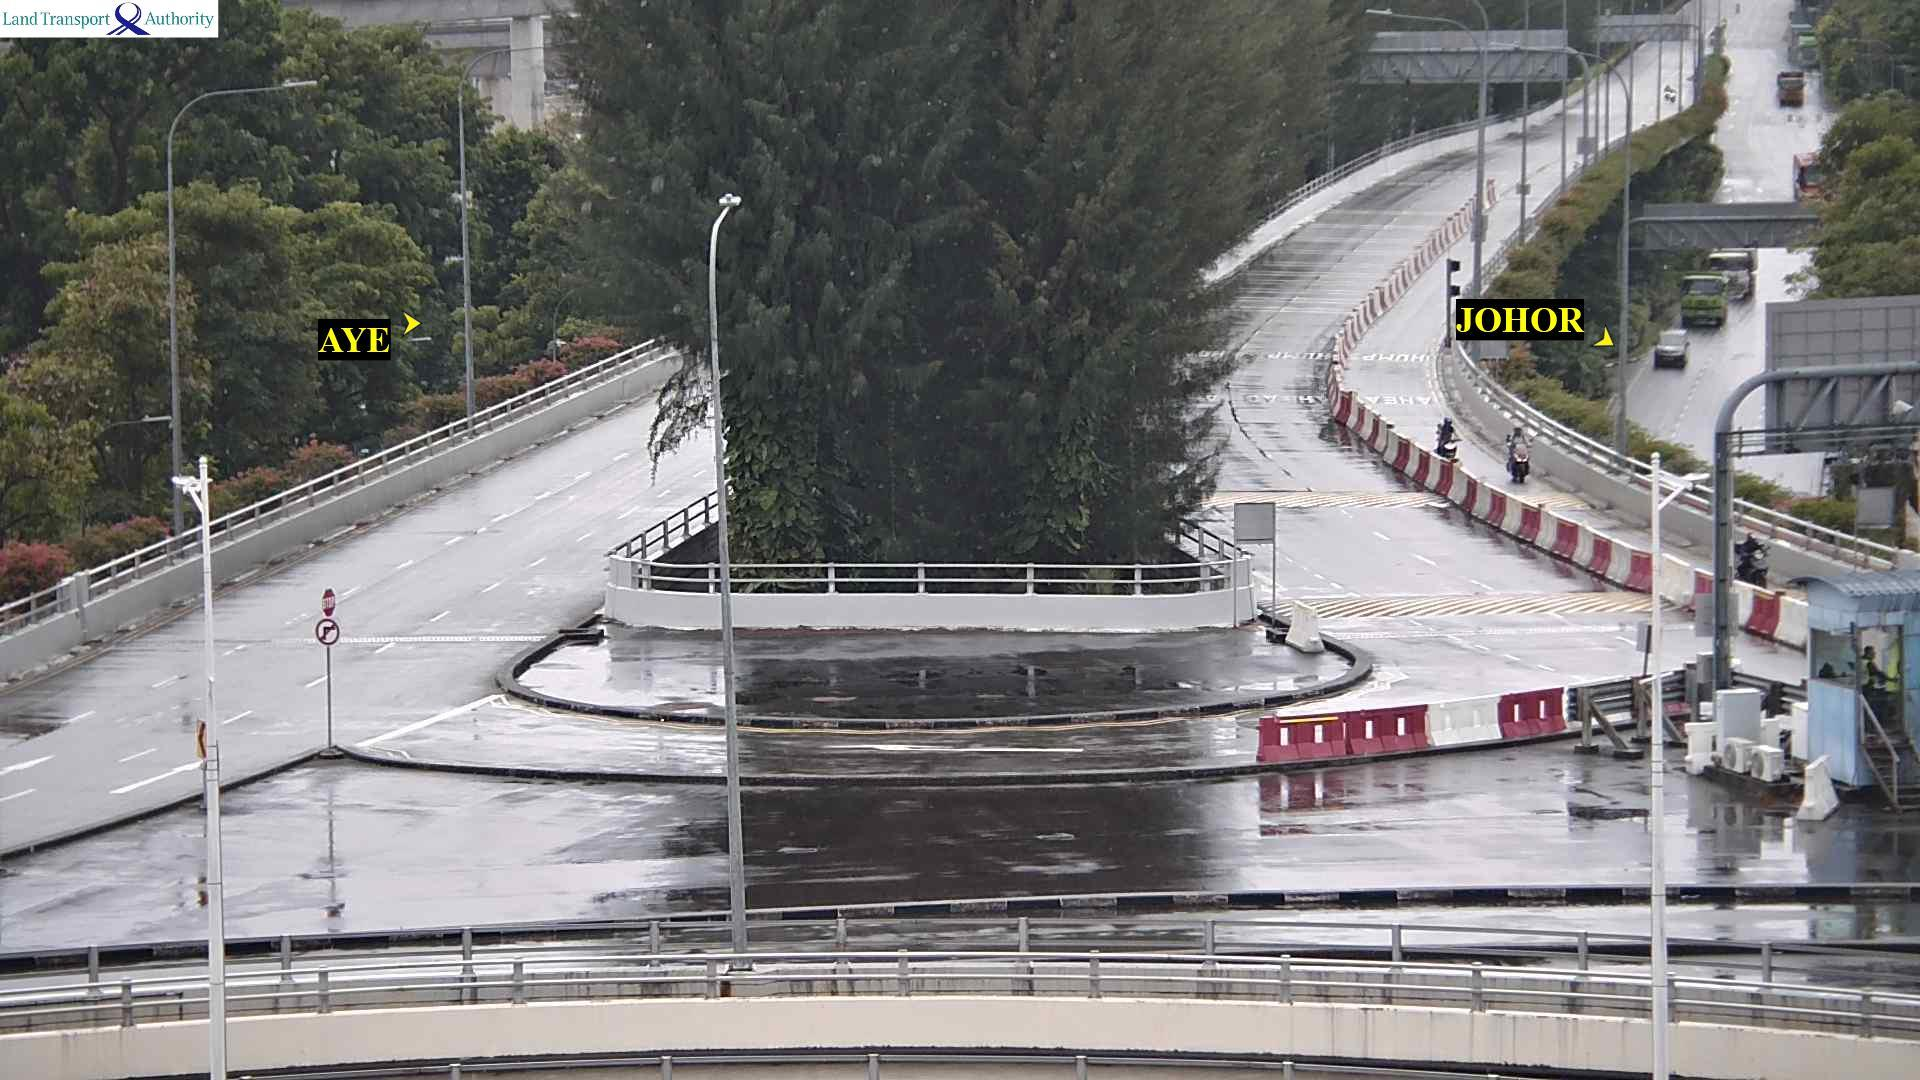vehicle-secondlink-johor: (1739, 535, 1779, 585), (1506, 434, 1534, 484), (1440, 421, 1466, 464)
